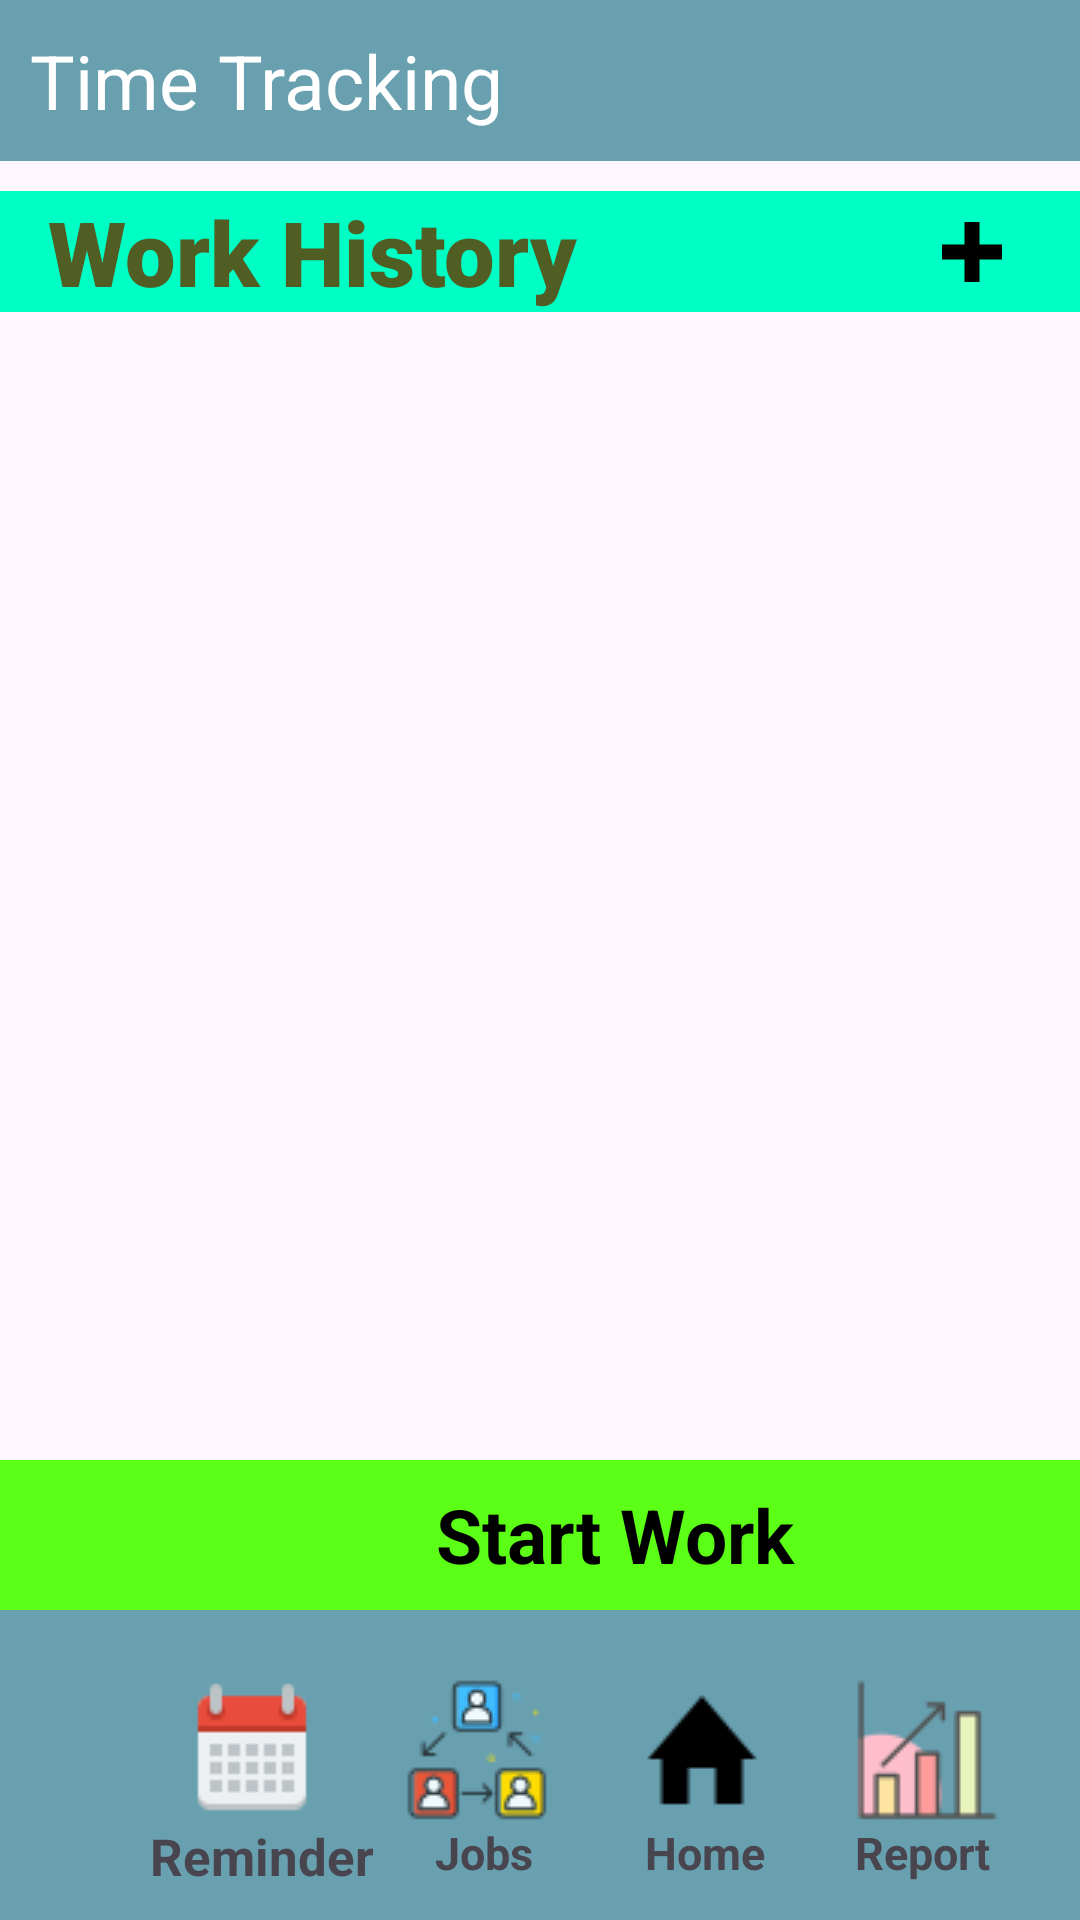

Point at icon controls on the screen. Image size 1080*1920, points as (x,y).
analytics: (927,1750)
calendar: (252,1747)
plus: (972,252)
